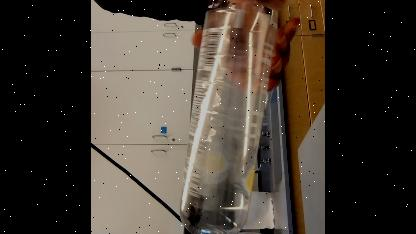Plastic Bottle: (177, 0, 280, 234)
